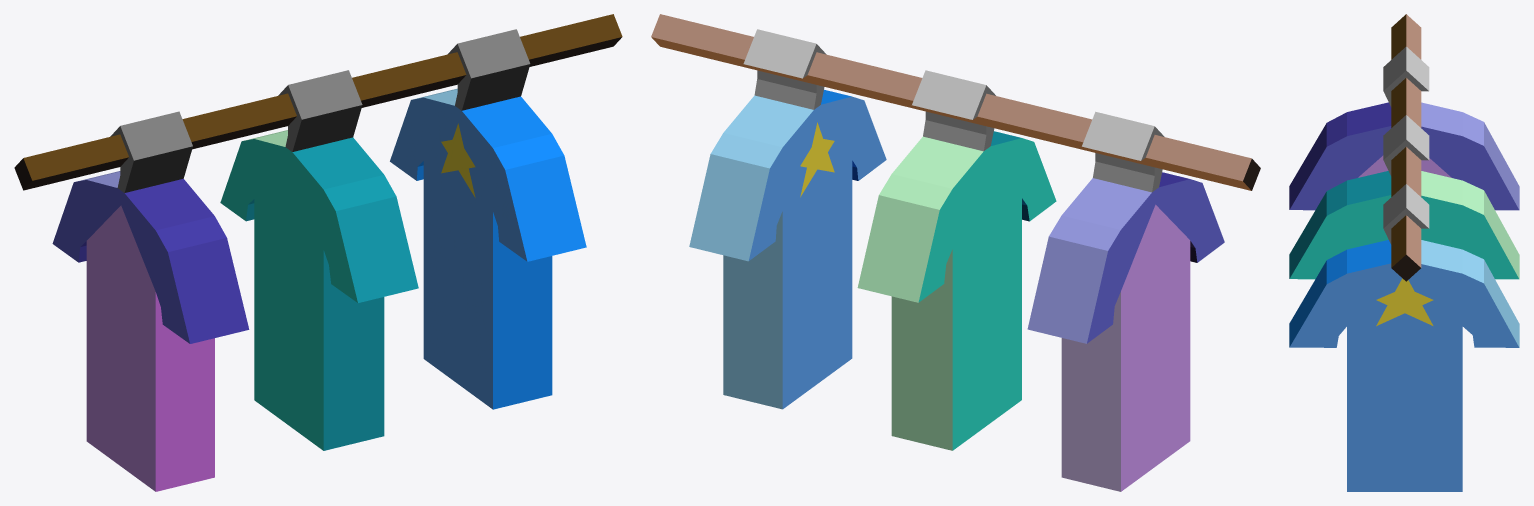
Rendered from Clothes.fbx.
3 renders of one model, left to right at view 1: azimuth 30°, elevation 25°; view 2: azimuth 150°, elevation 25°; view 3: azimuth 270°, elevation 25°, orthographic. The views are drawn at different scales.
Visible parts, largest first — view 1: Cylinder; view 2: Cylinder; view 3: Cylinder.
Boxes of the visible parts, <box> form: Cylinder: <box>14,14,622,491</box>; Cylinder: <box>651,14,1260,491</box>; Cylinder: <box>1289,14,1519,491</box>.
Size of the model in its own units: 379 by 209 by 153.
Materials: 1 (1 with a texture image).
